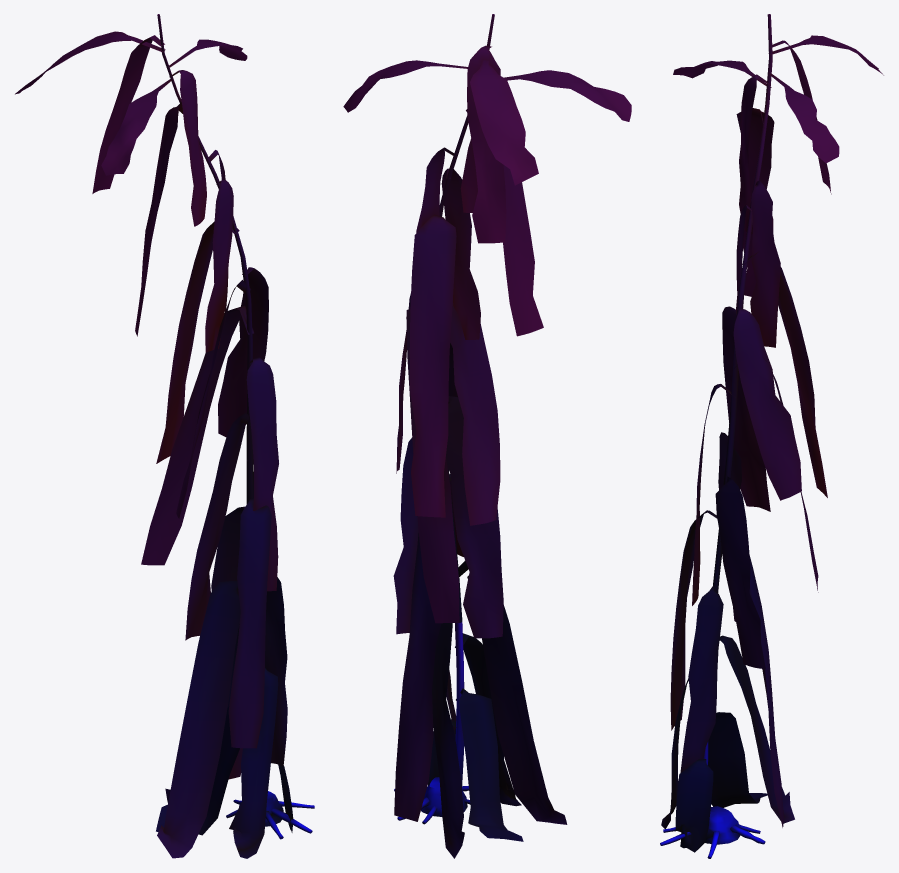
The model's file is MESH_Flora_Kelp_s4023_q100.fbx.
3 views of the same model, side by side, from view 1: azimuth 30°, elevation 25°; view 2: azimuth 150°, elevation 25°; view 3: azimuth 270°, elevation 25° (orthographic). The views are drawn at different scales.
Parts seen in each view (by area): view 1: MESH_Flora_Kelp_s4023_q100_LOD0; view 2: MESH_Flora_Kelp_s4023_q100_LOD0; view 3: MESH_Flora_Kelp_s4023_q100_LOD0.
Part boxes in pixels (bbox=[...]): MESH_Flora_Kelp_s4023_q100_LOD0: bbox=[15, 14, 314, 858]; MESH_Flora_Kelp_s4023_q100_LOD0: bbox=[343, 14, 631, 858]; MESH_Flora_Kelp_s4023_q100_LOD0: bbox=[660, 14, 883, 858].
Size of what is drawn, in the model's own units: 197 by 697 by 179.
